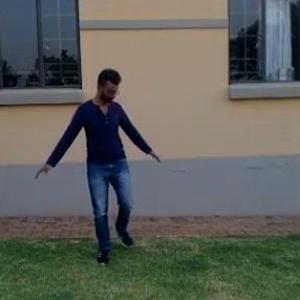land: (40, 57, 180, 266)
